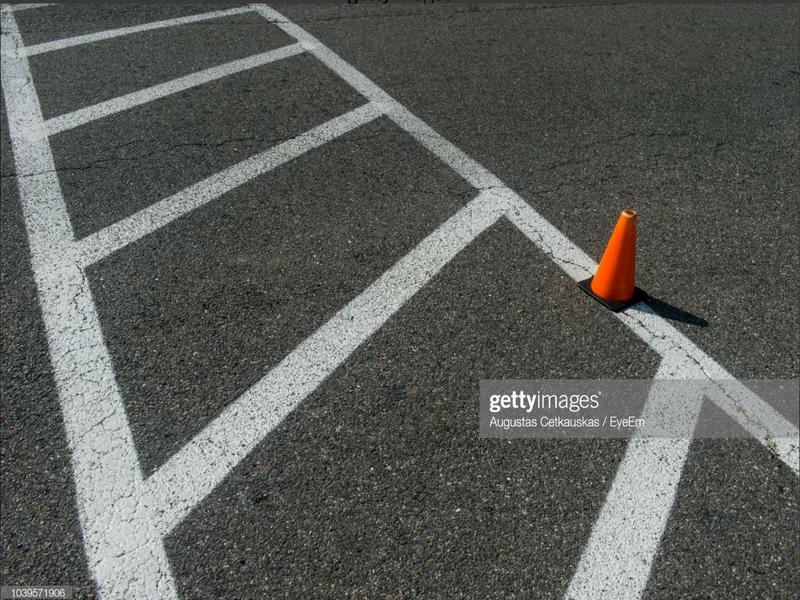Cone1: (577, 208, 649, 313)
